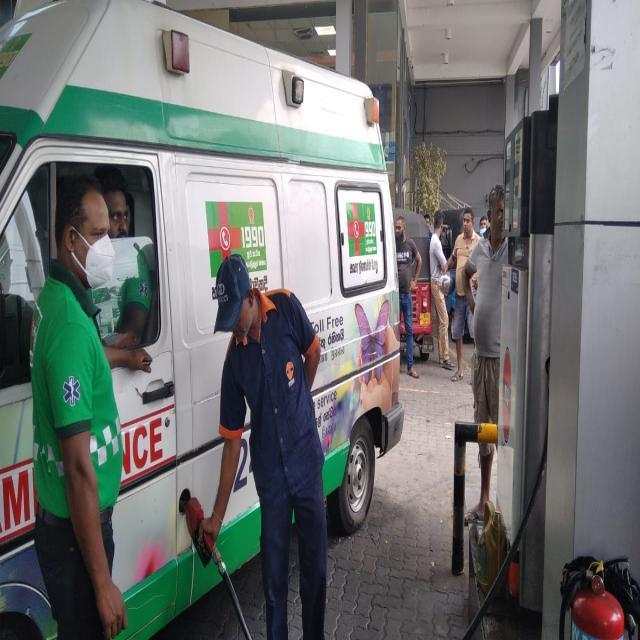emergency-vehicle: (1, 24, 410, 635)
